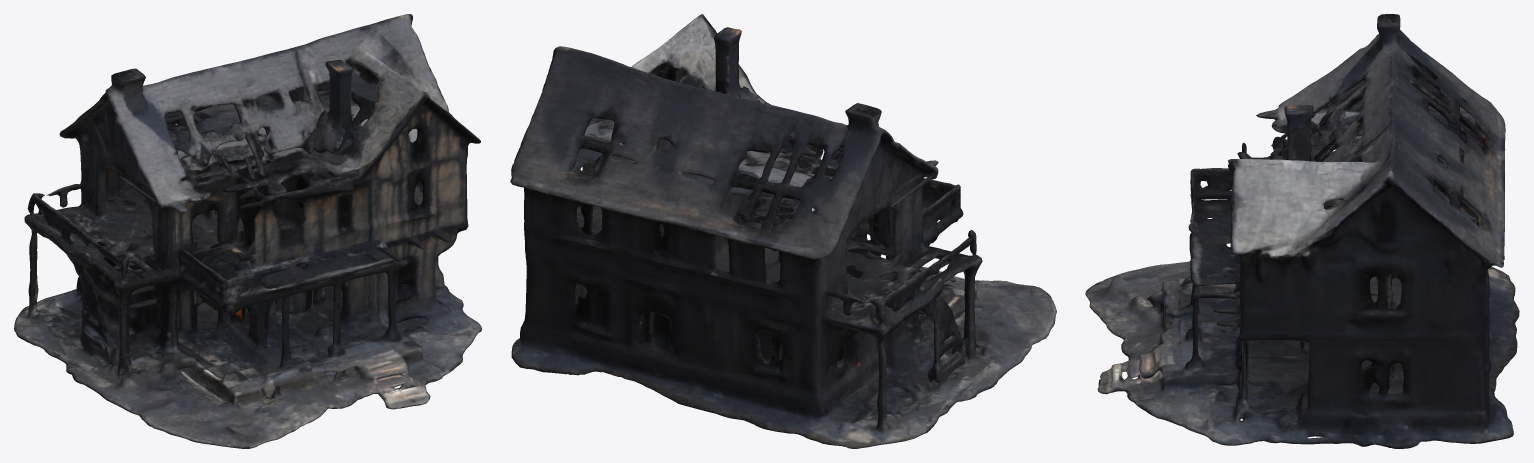
File: the_bleeding_hearth_b_1017214429_texture.glb
3 renders of one model, left to right at view 1: azimuth 30°, elevation 25°; view 2: azimuth 150°, elevation 25°; view 3: azimuth 270°, elevation 25°, orthographic. The views are drawn at different scales.
Size of the model in its own units: 1.97 by 1.35 by 1.84.
Materials: 1 (1 with a texture image).
